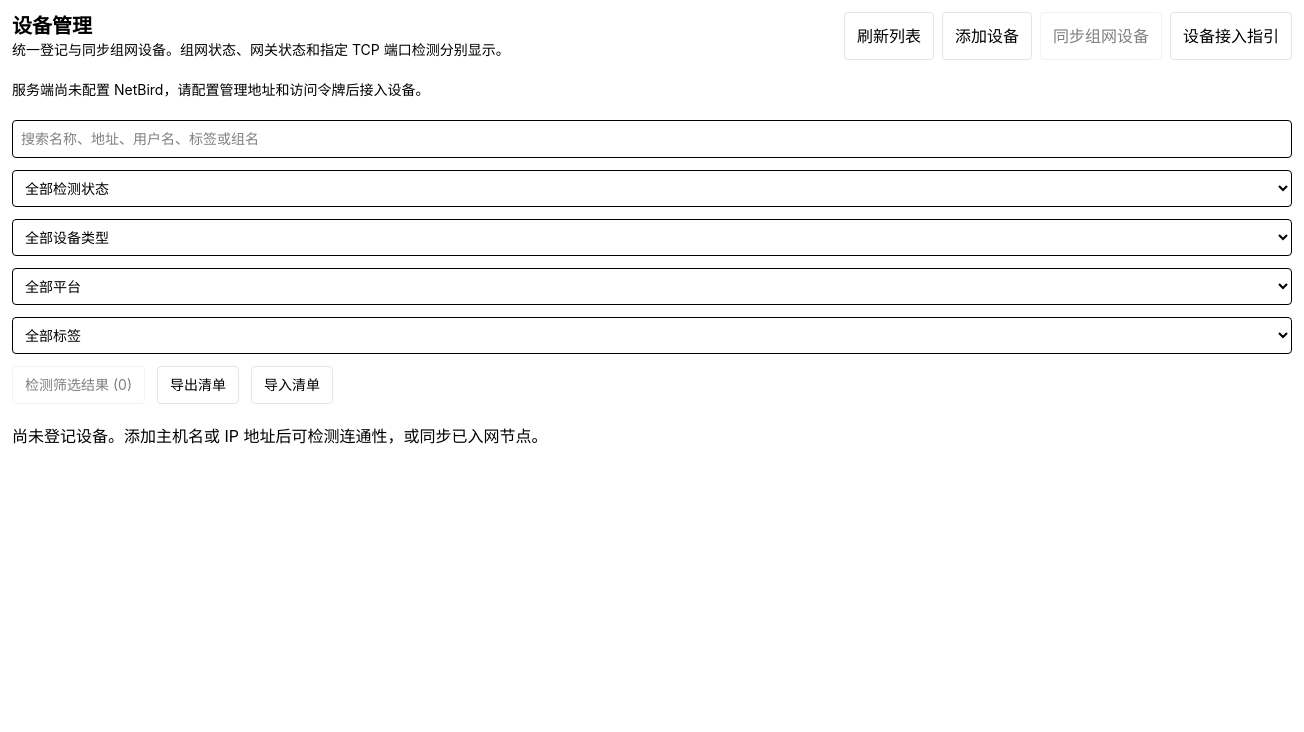
it: loads onboarding only on request and displays server configuration guidance
Expected: the text "尚未登记设备。添加主机名或 IP 地址后可检测连通性，或同步已入网节点。" is shown, [12,426,548,446]
Expected: the text "服务端尚未配置 NetBird，请配置管理地址和访问令牌后接入设备。" is shown, [12,81,429,98]
Click the button "设备接入指引".
click(1231, 36)  # box [1170,12,1292,60]
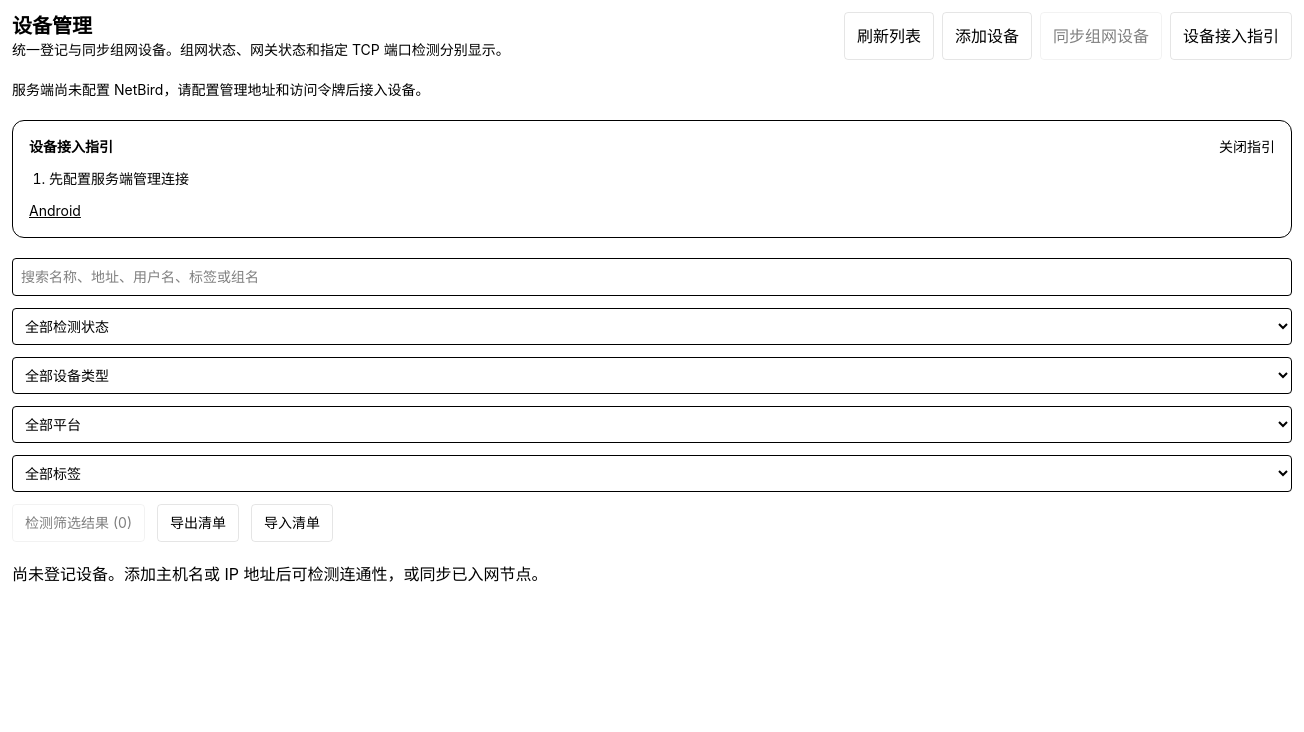
Result: the list item "先配置服务端管理连接" is shown at [49,170,189,187]
